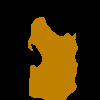maglia: (28, 17, 78, 100)
